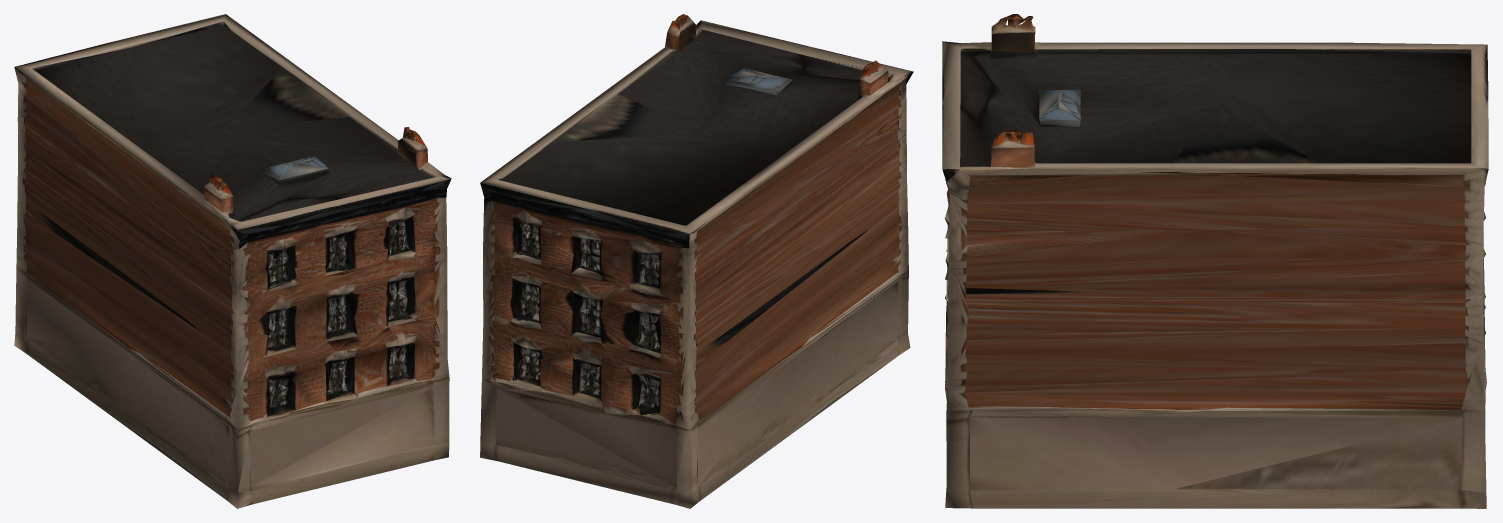
The model's file is MixedUseBrick_LOD3.fbx.
The picture shows the model from 3 angles, left to right: view 1: azimuth 30°, elevation 25°; view 2: azimuth 150°, elevation 25°; view 3: azimuth 270°, elevation 25°; orthographic projection. The views are drawn at different scales.
Parts seen in each view (by area): view 1: MixedUseBrick_Level3; view 2: MixedUseBrick_Level3; view 3: MixedUseBrick_Level3.
Part boxes in pixels (left/top/right/bottom): MixedUseBrick_Level3: left=14, top=14, right=451, bottom=508; MixedUseBrick_Level3: left=480, top=14, right=913, bottom=508; MixedUseBrick_Level3: left=942, top=14, right=1488, bottom=508.
Size of the model in its own units: 54.33 by 73.82 by 98.06.
Materials: 1 (1 with a texture image).
